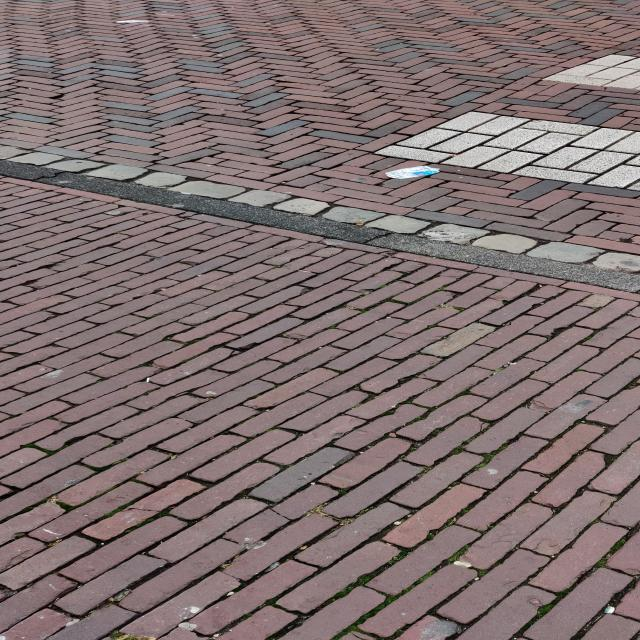litter: (357, 156, 456, 190)
